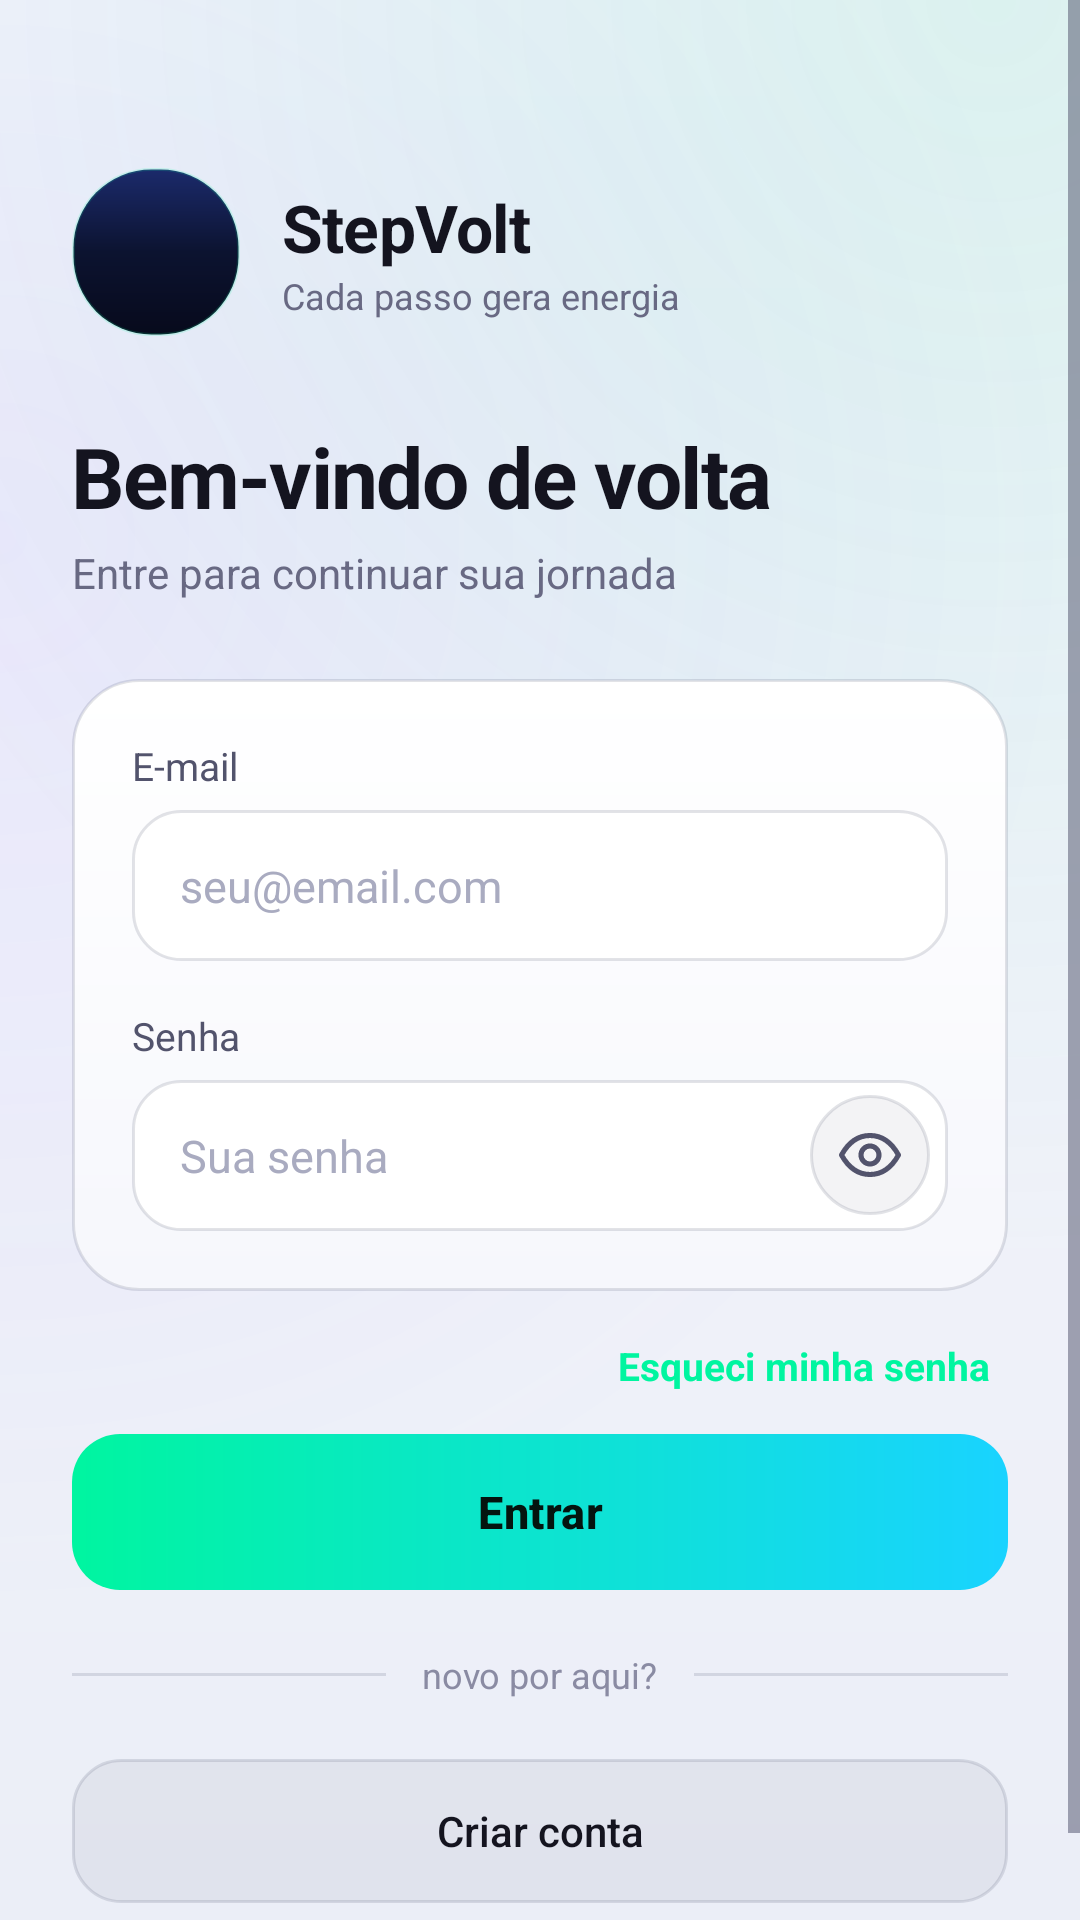

Icons on this 1080x1920 Android screen, each with the point to tap as (x=x, y=y):
Mostrar ou ocultar a senha: (x=870, y=1155)
